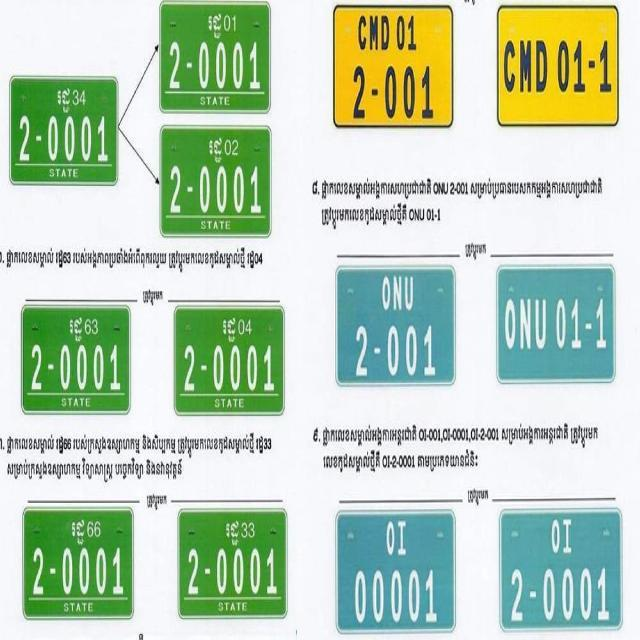State: (57, 83, 71, 115), (209, 135, 223, 164), (68, 316, 83, 342), (71, 520, 86, 545), (207, 11, 220, 38), (222, 318, 236, 342), (226, 520, 238, 547)
